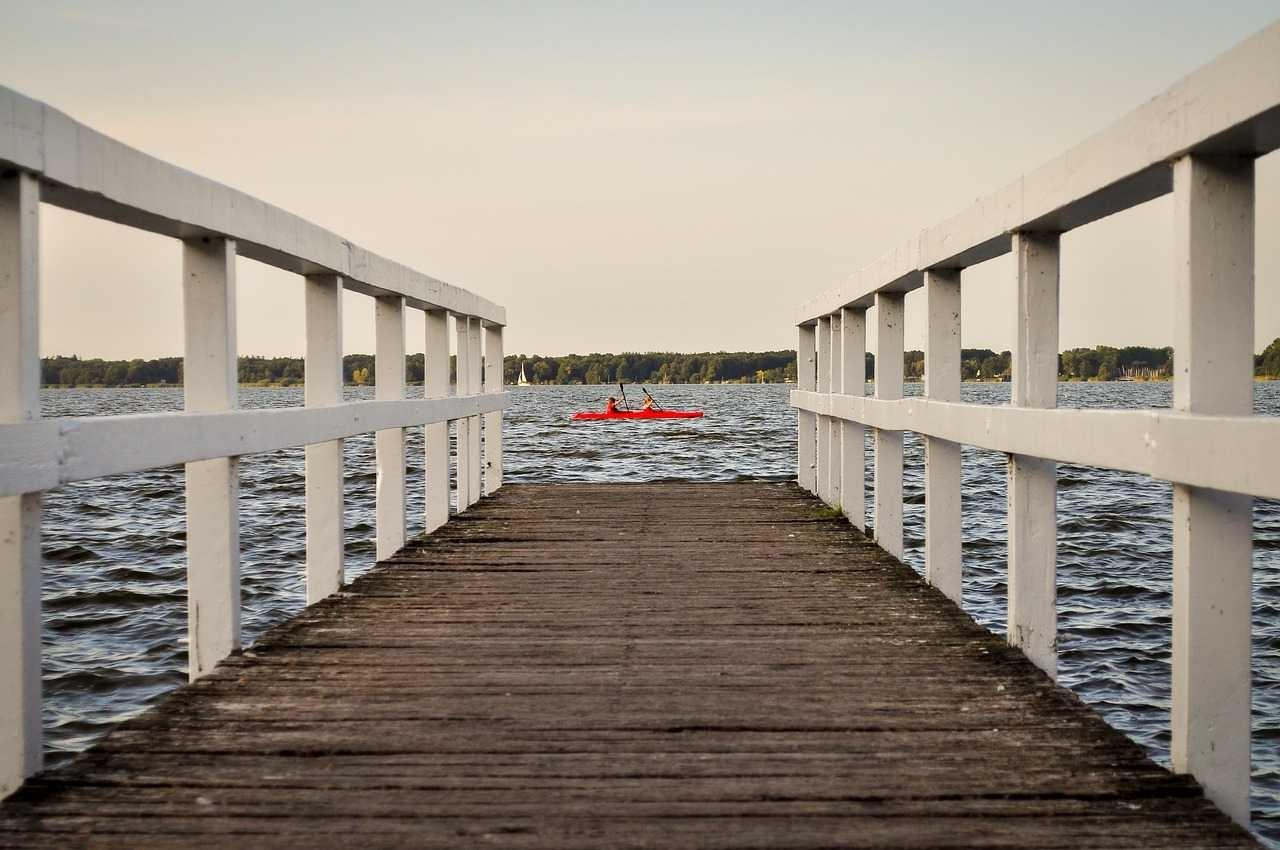kayak: (566, 401, 703, 426)
